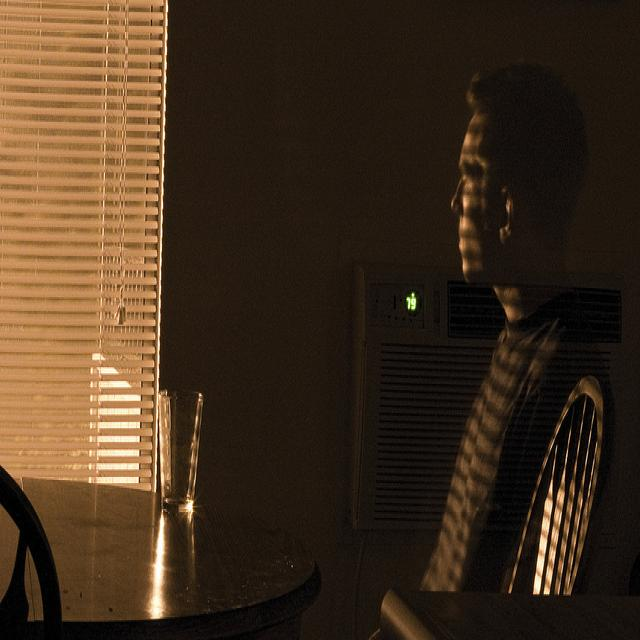Cup: (149, 390, 199, 518)
People: (427, 59, 602, 588)
Table: (0, 474, 300, 640), (353, 504, 640, 640)
chair: (482, 374, 617, 635), (0, 439, 67, 639)
